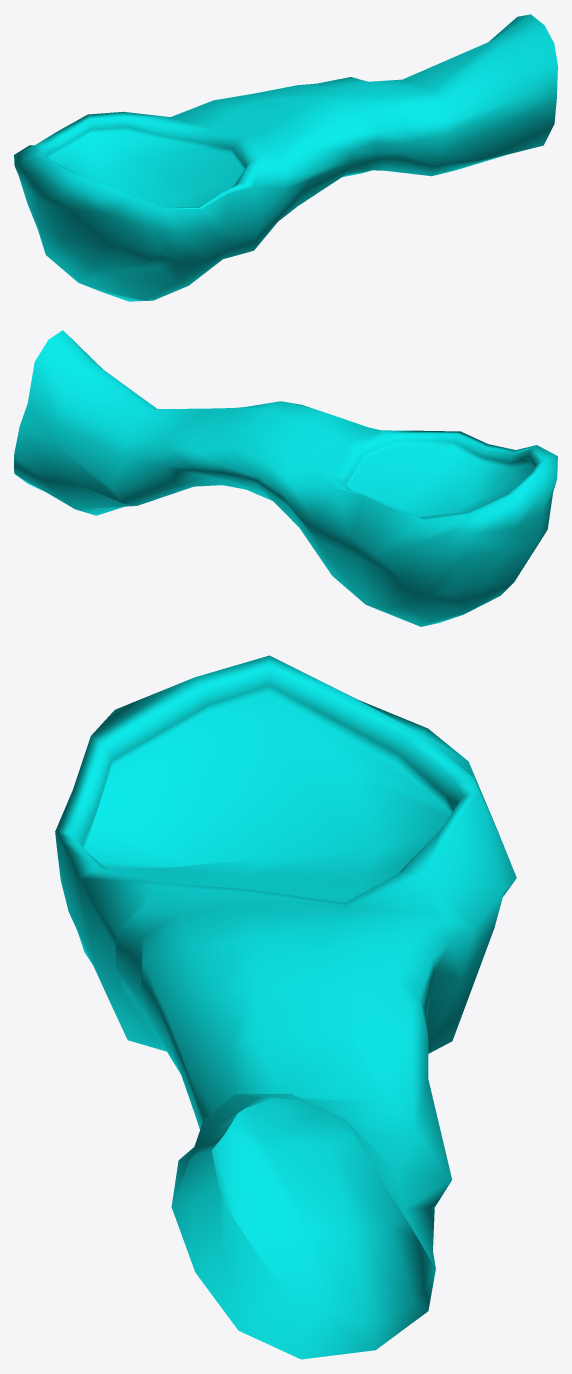
The model's file is BigWallAttachment02_mesh.fbx.
3 renders of one model, top to bottom at view 1: azimuth 30°, elevation 25°; view 2: azimuth 150°, elevation 25°; view 3: azimuth 270°, elevation 25°, orthographic. The views are drawn at different scales.
Visible parts, largest first — view 1: Big_wallattachment02_model; view 2: Big_wallattachment02_model; view 3: Big_wallattachment02_model.
Boxes of the visible parts, box(x1,y1,x2,y2) form: Big_wallattachment02_model: box(14, 14, 557, 301); Big_wallattachment02_model: box(14, 330, 557, 626); Big_wallattachment02_model: box(55, 655, 516, 1359).
Bounding box in the file's own units: 42.45 × 15.26 × 17.1.
